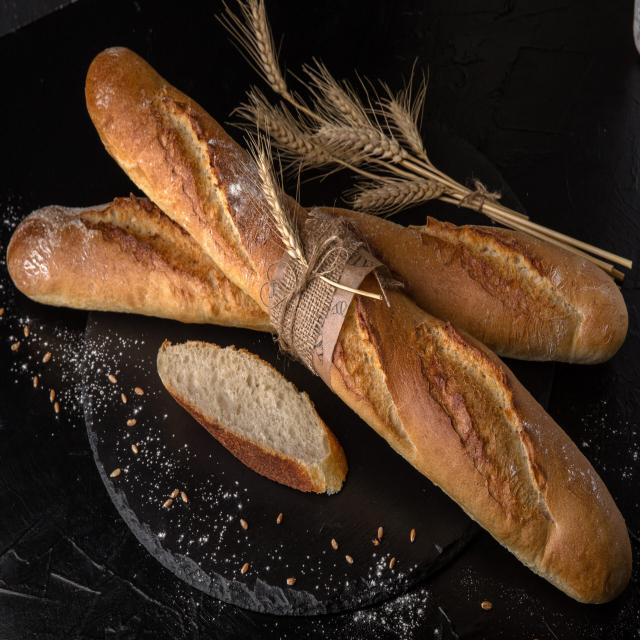Baguette: (325, 288, 631, 602), (296, 208, 628, 363), (85, 48, 284, 302), (6, 194, 273, 332)
